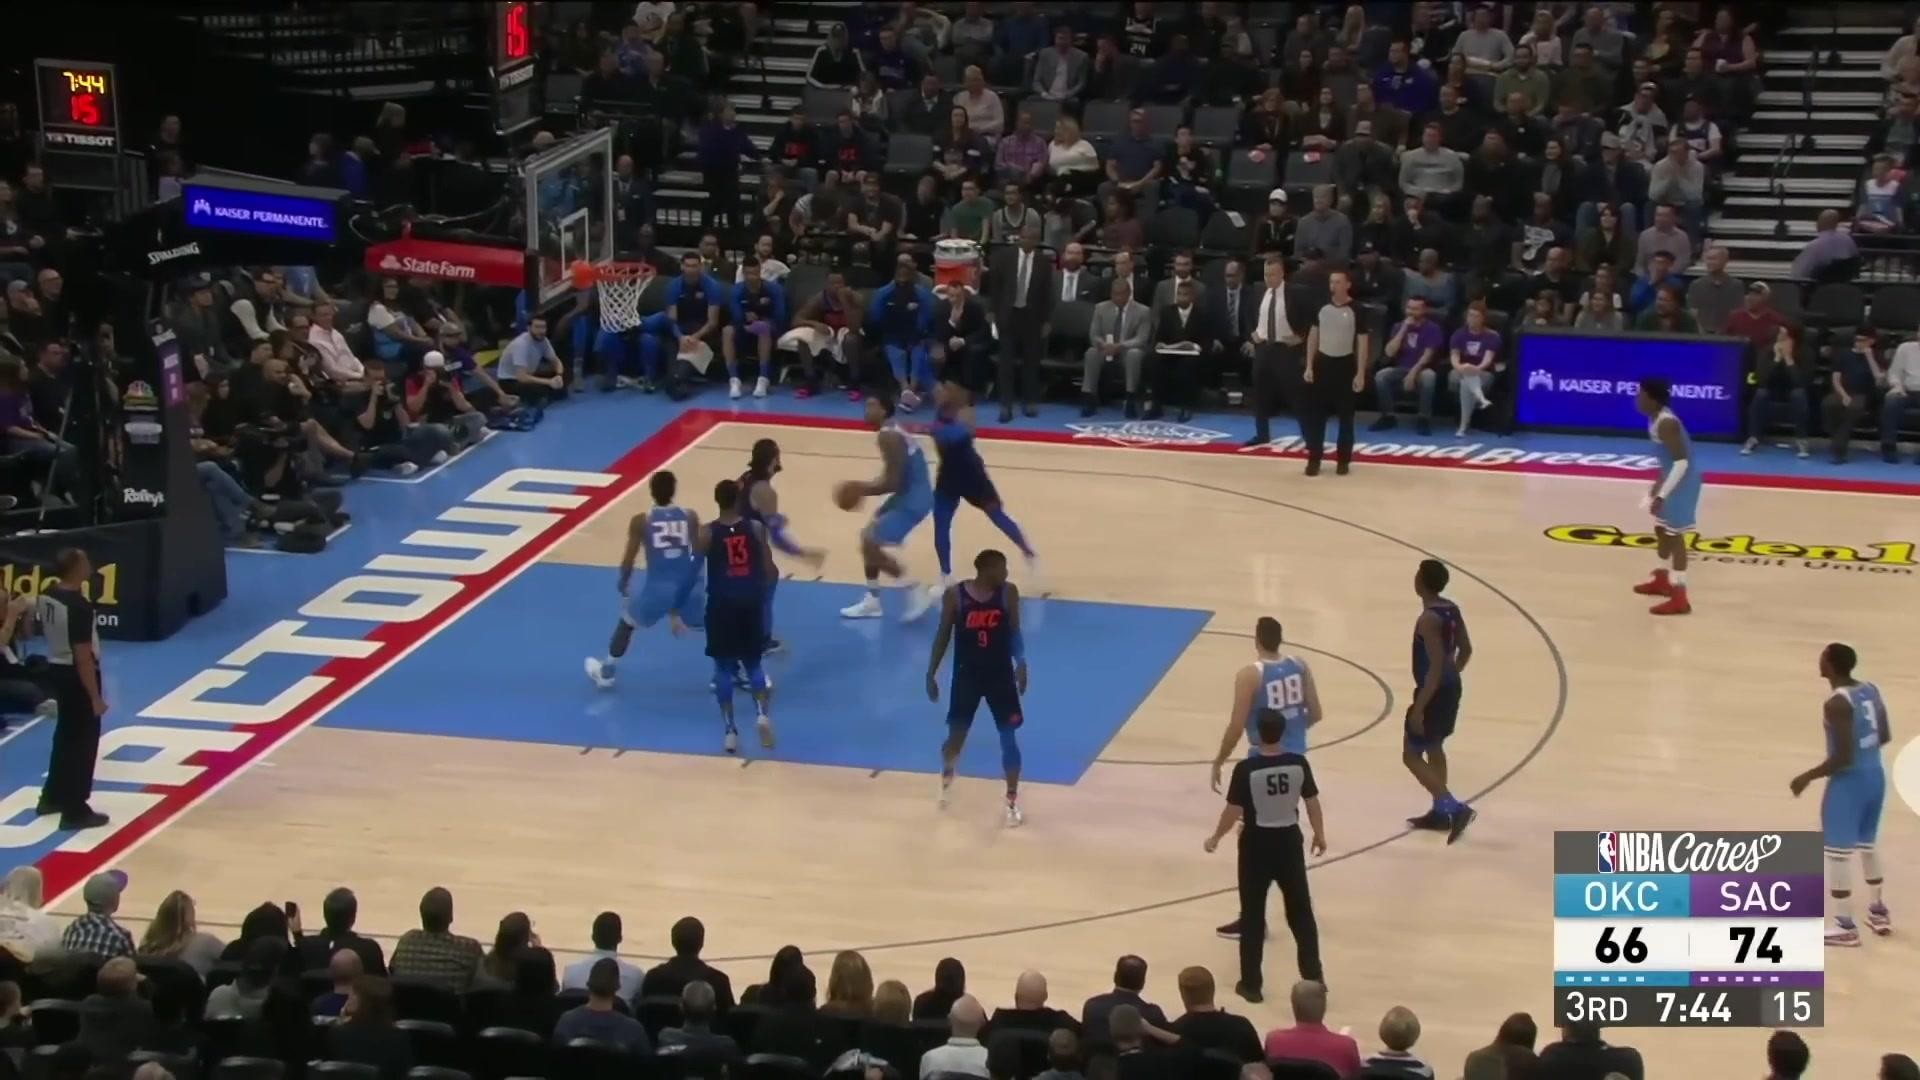no_foul: (803, 367, 1069, 641)
